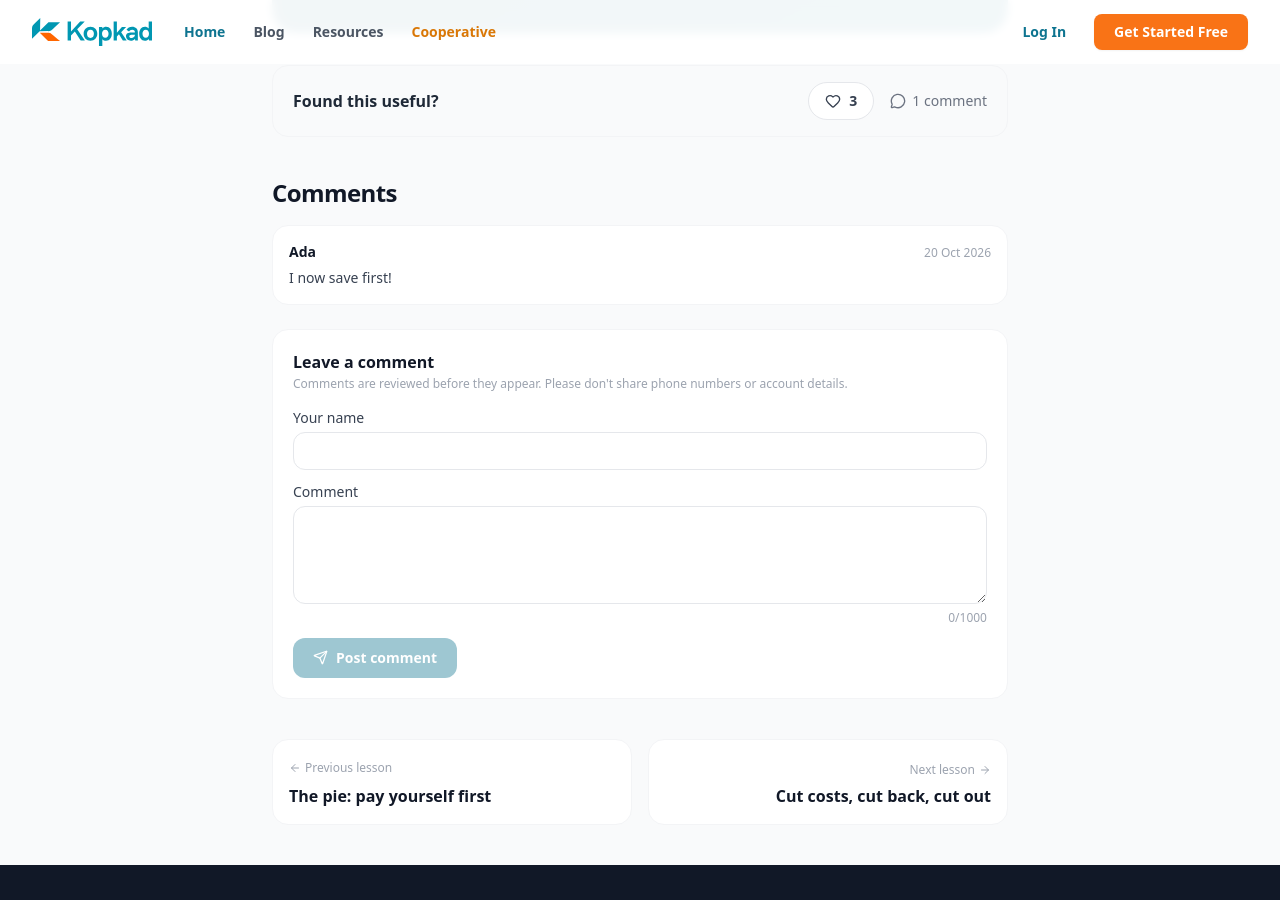
Test: BlogPostPage — likes and comments › shows the server message when a comment is refused
(page scrolled)
Type "Bayo" into the field labelled "Your name" at (640, 451), box [293, 432, 987, 470]
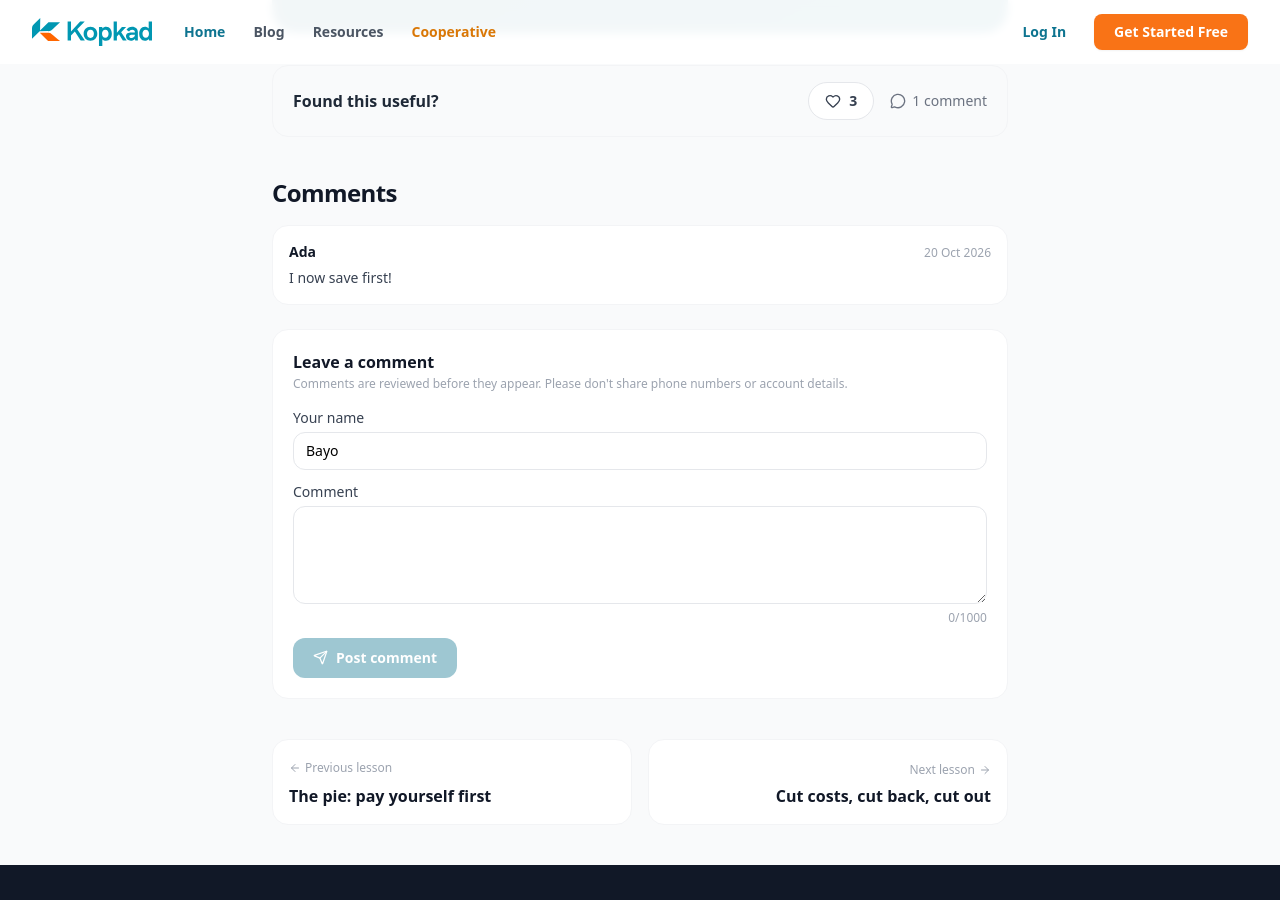
Type "Another one" into the text box labelled "Comment" at (640, 555), box [293, 506, 987, 604]
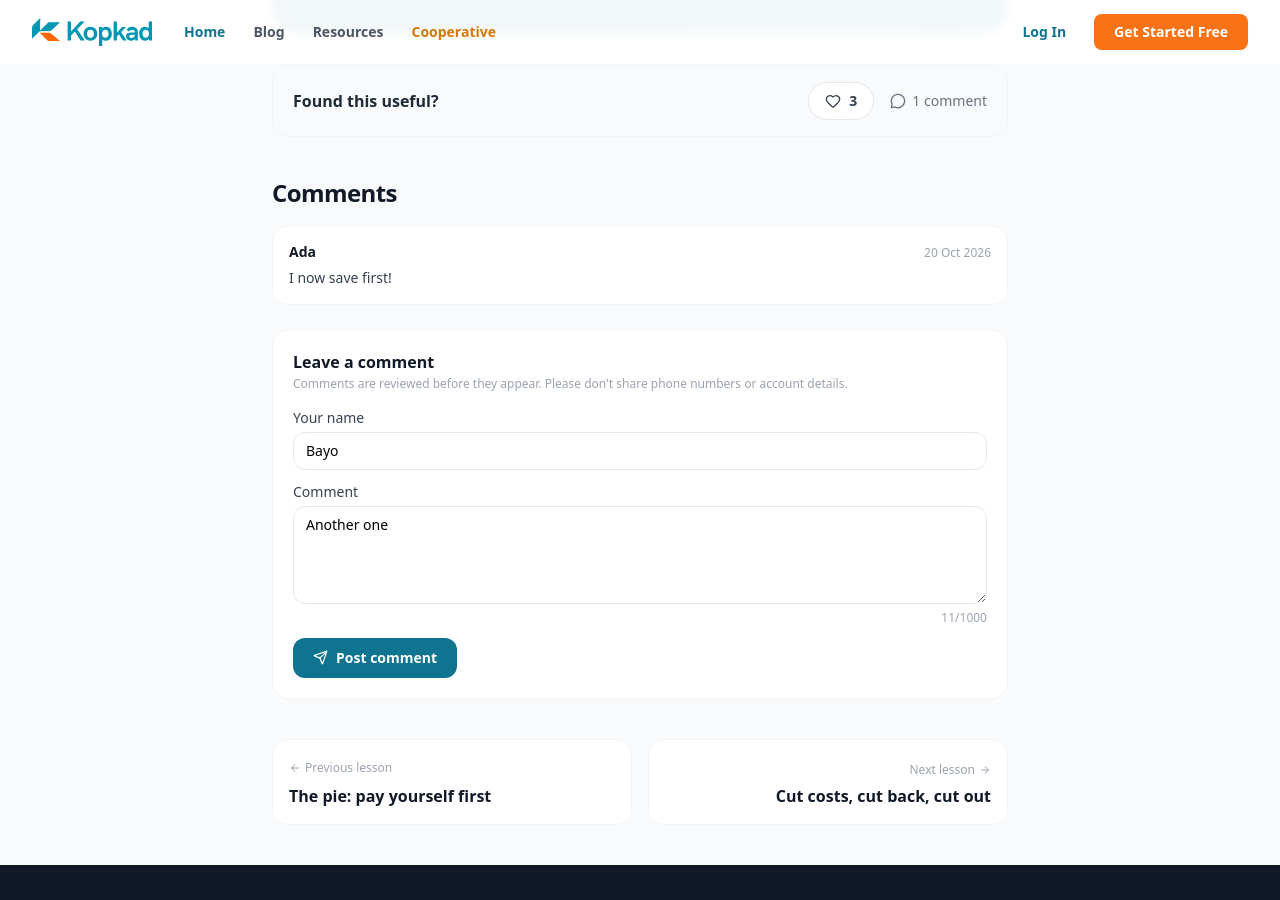
Click the button "Post comment" at (375, 658), box [293, 638, 457, 678]
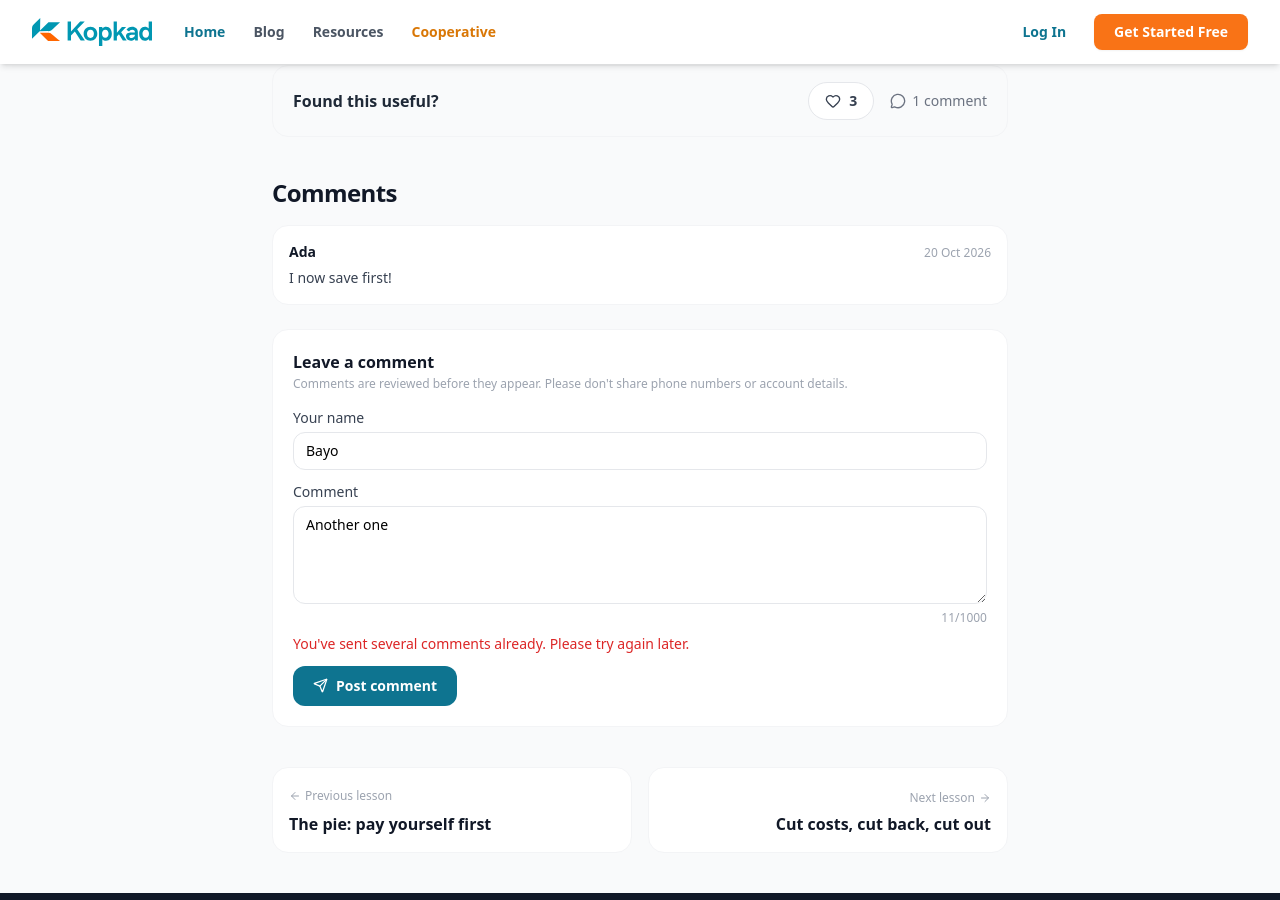
Now the message shows "several comments already", box [293, 634, 689, 653]
